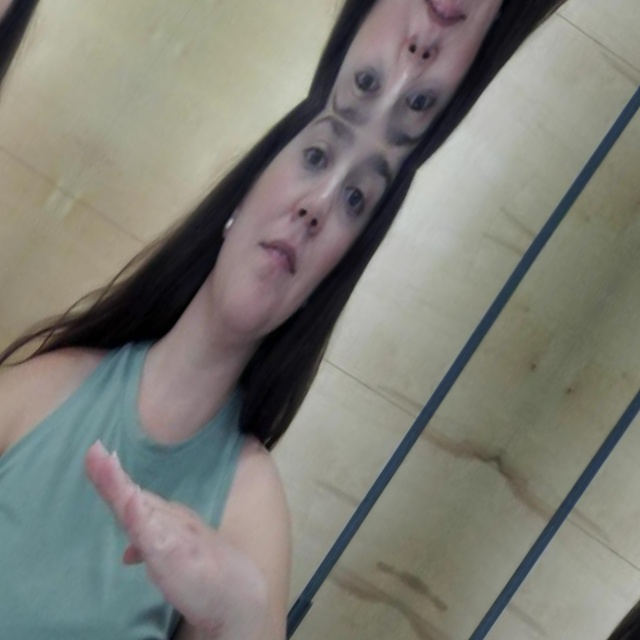Paper: (452, 0, 640, 29)
